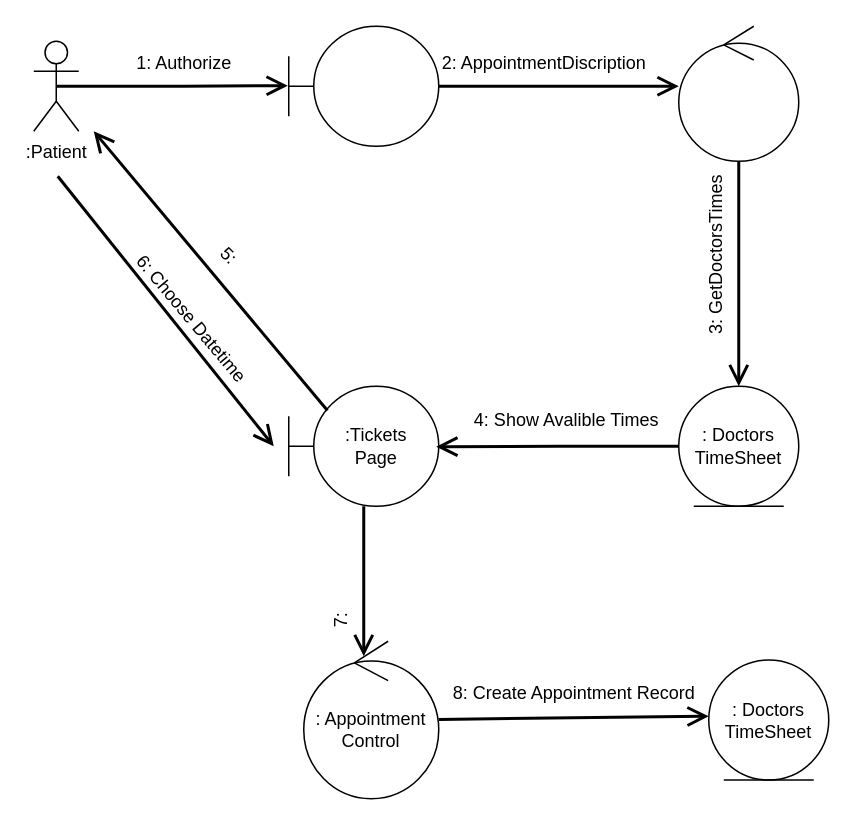
The diagram is 855 pixels wide and 825 high, and some of its shapes have lost their labels. Each missing label, with the centre of its shape:
":Registry Page" belongs at (x=363, y=85).
"Appointment Control" belongs at (x=738, y=93).
